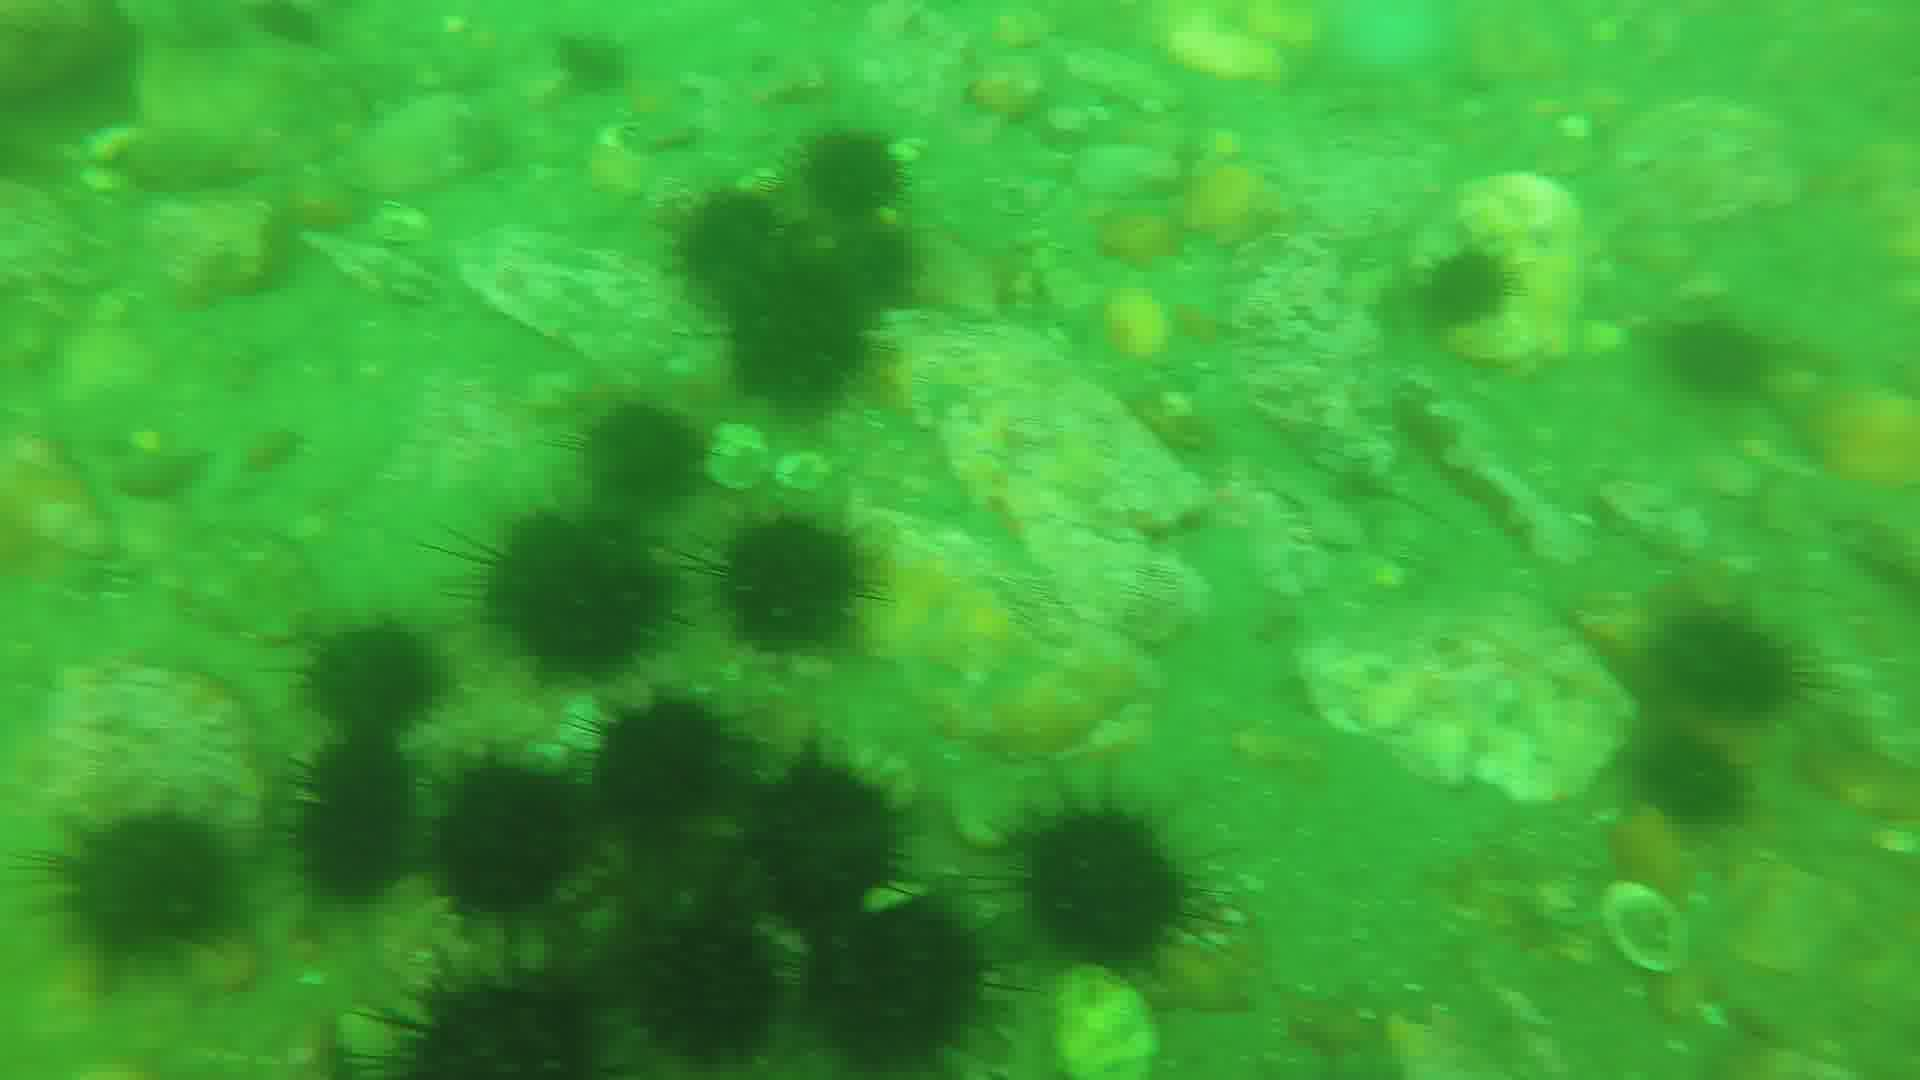echinus: (464, 508, 676, 688), (1015, 800, 1211, 984), (45, 807, 253, 975), (808, 895, 996, 1080), (615, 898, 799, 1080), (423, 760, 599, 942), (738, 754, 916, 928), (367, 961, 607, 1080), (708, 506, 870, 654), (284, 738, 421, 909), (588, 704, 737, 847), (729, 253, 862, 409), (562, 389, 705, 530), (1660, 597, 1808, 729), (295, 620, 434, 742), (671, 193, 798, 305), (785, 131, 911, 228), (1646, 719, 1755, 828), (1658, 316, 1776, 405), (814, 218, 916, 315), (1423, 251, 1523, 330)
scallop: (1042, 967, 1168, 1080), (1600, 877, 1695, 978), (700, 427, 781, 498), (781, 447, 843, 498)
